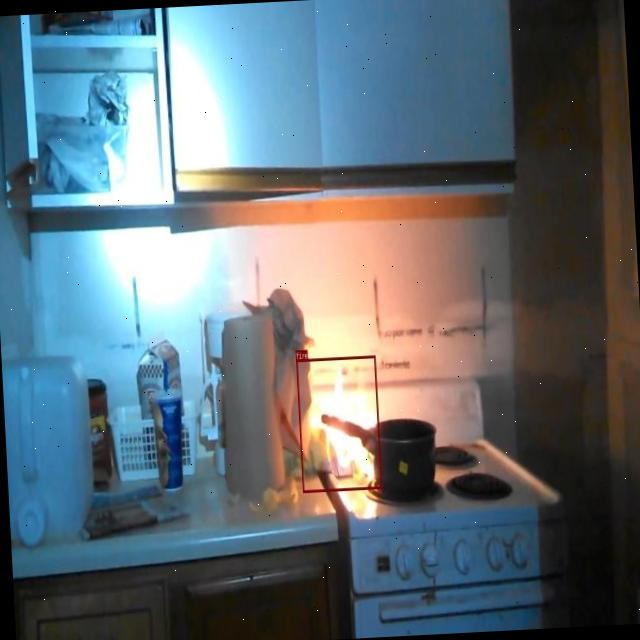fire: (296, 355, 382, 492)
